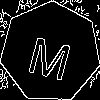M: (25, 27, 76, 82)
